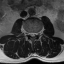CCS_stenosis: (31, 30, 33, 39)
LFS_normal: (36, 30, 38, 37)
LLS_normal: (33, 30, 36, 38)
RFS_normal: (26, 29, 29, 37)
RLS_normal: (29, 30, 31, 38)
